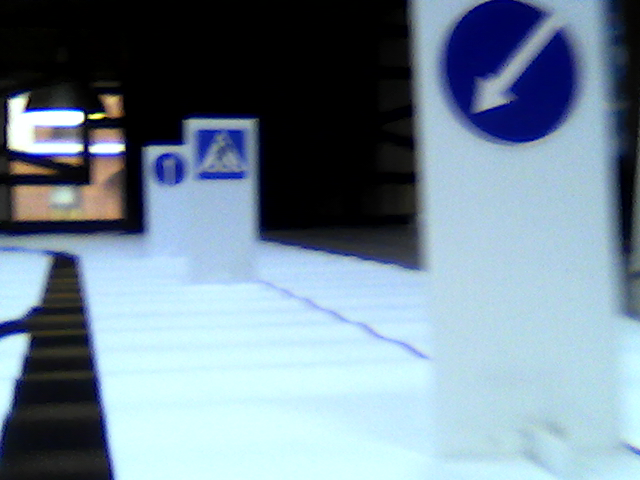pesh: (197, 124, 248, 182)
prep: (435, 3, 586, 146)
